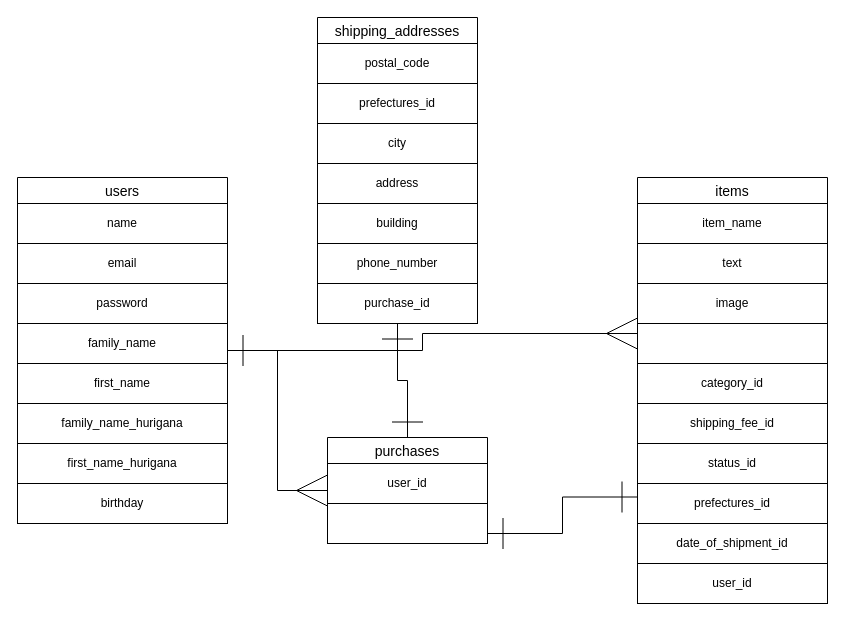
Image size: 845x621. Some labels were removed from this diagram. Each missing label, with the centre of its shape:
item_id: [407,523]
price: [732,343]
